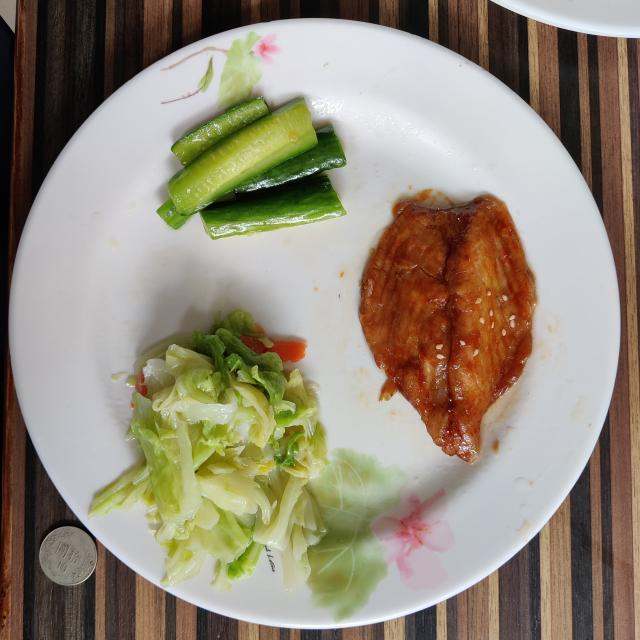Kabayaki sea bream fillet: (359, 195, 536, 462)
cabbage: (89, 310, 326, 591)
coin: (39, 526, 98, 586)
cucumber: (158, 98, 345, 239)
